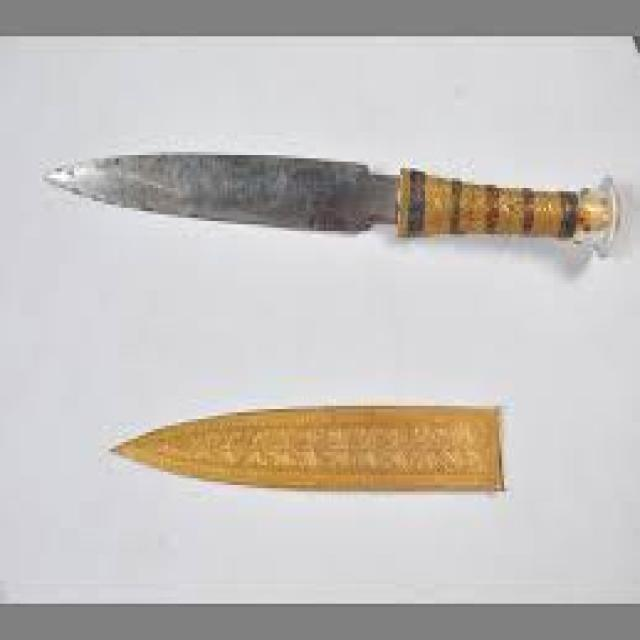Gun: (48, 119, 640, 302)
